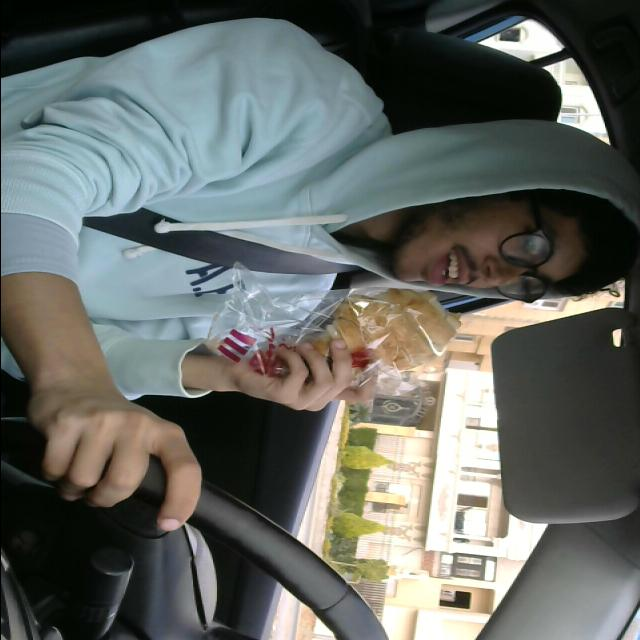eating: (310, 284, 468, 372)
